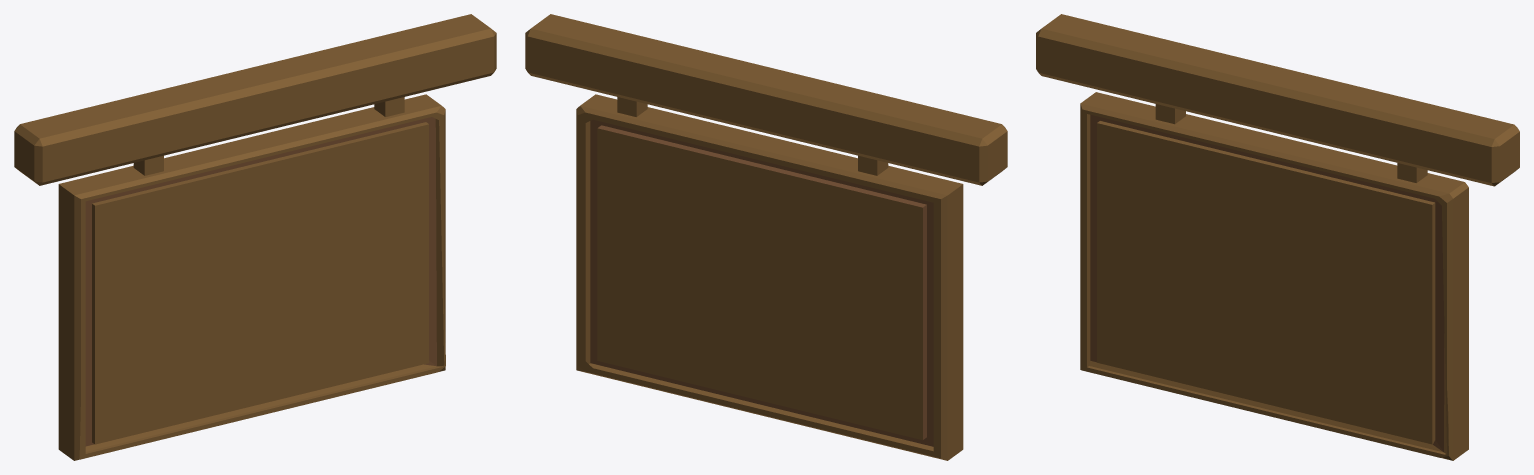
Rendered from banner.fbx.
3 renders of one model, left to right at view 1: azimuth 30°, elevation 25°; view 2: azimuth 150°, elevation 25°; view 3: azimuth 330°, elevation 25°, orthographic.
Parts seen in each view (by area): view 1: Signboard; view 2: Signboard; view 3: Signboard.
Part boxes in pixels (bbox=[...]): Signboard: bbox=[14, 14, 496, 460]; Signboard: bbox=[525, 14, 1007, 460]; Signboard: bbox=[1036, 14, 1519, 460].
Bounding box in the file's own units: 96.89 × 66.64 × 9.47.
